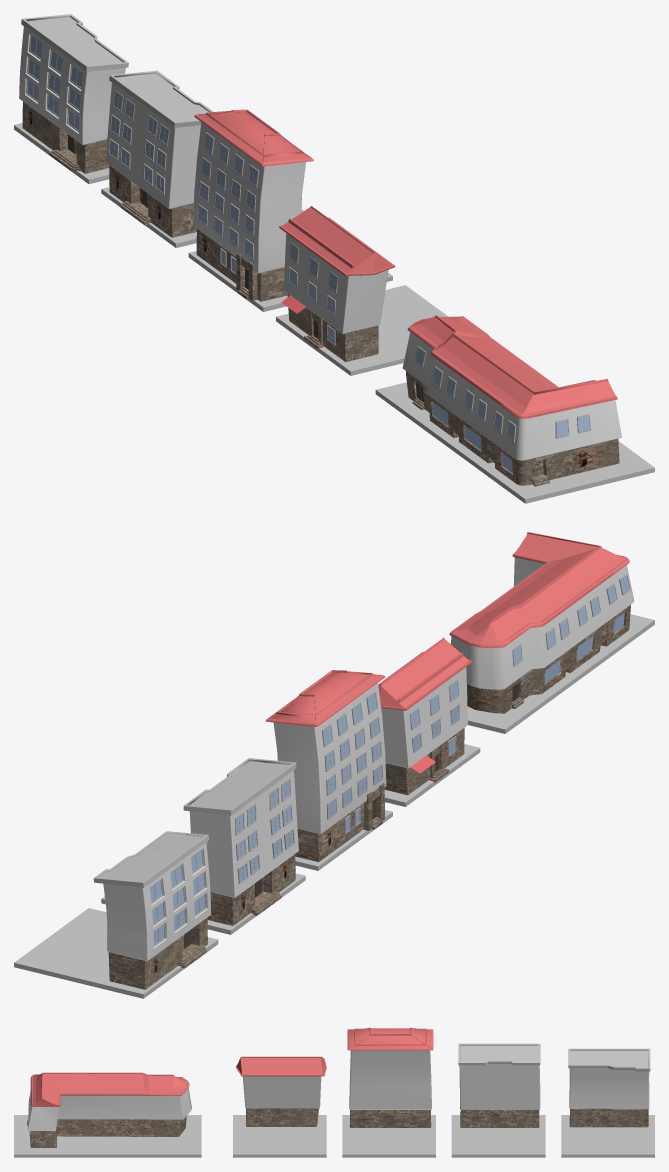
The model's file is buildings.fbx.
3 views of the same model, one above another, from view 1: azimuth 30°, elevation 25°; view 2: azimuth 150°, elevation 25°; view 3: azimuth 270°, elevation 25° (orthographic). The views are drawn at different scales.
Visible parts, largest first — view 1: building.008, building.016, building.019, building, building.021, building.013, building.014, building.004, building.022, building.025, building.020, building.001 (+2 smaller); view 2: building.008, building.016, building.021, building.019, building, building.023, building.013, building.004, building.022, building.025, building.020, building.001 (+4 smaller); view 3: building.008, building.016, building.019, building.021, building, building.013, building.014, building.023, building.024, building.015.
Boxes of the visible parts, x1=… form: building.008: x1=402, y1=315, x2=621, y2=486; building.016: x1=193, y1=109, x2=313, y2=301; building.019: x1=105, y1=70, x2=213, y2=237; building: x1=279, y1=206, x2=395, y2=361; building.021: x1=19, y1=14, x2=128, y2=173; building.013: x1=375, y1=382, x2=654, y2=503; building.014: x1=276, y1=285, x2=448, y2=375; building.004: x1=197, y1=132, x2=259, y2=259; building.022: x1=26, y1=35, x2=82, y2=132; building.025: x1=143, y1=115, x2=169, y2=194; building.020: x1=108, y1=90, x2=134, y2=169; building.001: x1=288, y1=242, x2=338, y2=316; building.008: x1=449, y1=532, x2=634, y2=713; building.016: x1=265, y1=670, x2=386, y2=861; building.021: x1=93, y1=831, x2=211, y2=989; building.019: x1=183, y1=758, x2=298, y2=925; building: x1=378, y1=637, x2=472, y2=795; building.023: x1=14, y1=908, x2=218, y2=998; building.013: x1=450, y1=614, x2=654, y2=733; building.004: x1=321, y1=691, x2=382, y2=819; building.022: x1=150, y1=849, x2=206, y2=946; building.025: x1=269, y1=778, x2=294, y2=858; building.020: x1=235, y1=803, x2=260, y2=883; building.001: x1=410, y1=679, x2=459, y2=753; building.008: x1=27, y1=1072, x2=191, y2=1147; building.016: x1=347, y1=1027, x2=433, y2=1127; building.019: x1=458, y1=1043, x2=540, y2=1127; building.021: x1=568, y1=1048, x2=650, y2=1127; building: x1=235, y1=1056, x2=326, y2=1126; building.013: x1=14, y1=1115, x2=201, y2=1157; building.014: x1=233, y1=1115, x2=326, y2=1157; building.023: x1=561, y1=1115, x2=654, y2=1157; building.024: x1=451, y1=1115, x2=545, y2=1157; building.015: x1=342, y1=1115, x2=435, y2=1157.
Size of the model in its own units: 621 by 690 by 4100.
